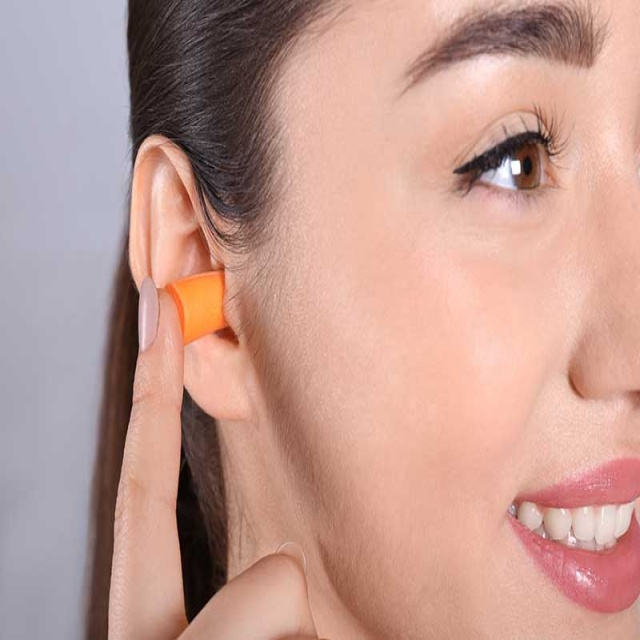Hearing_Protection: (168, 275, 224, 325)
